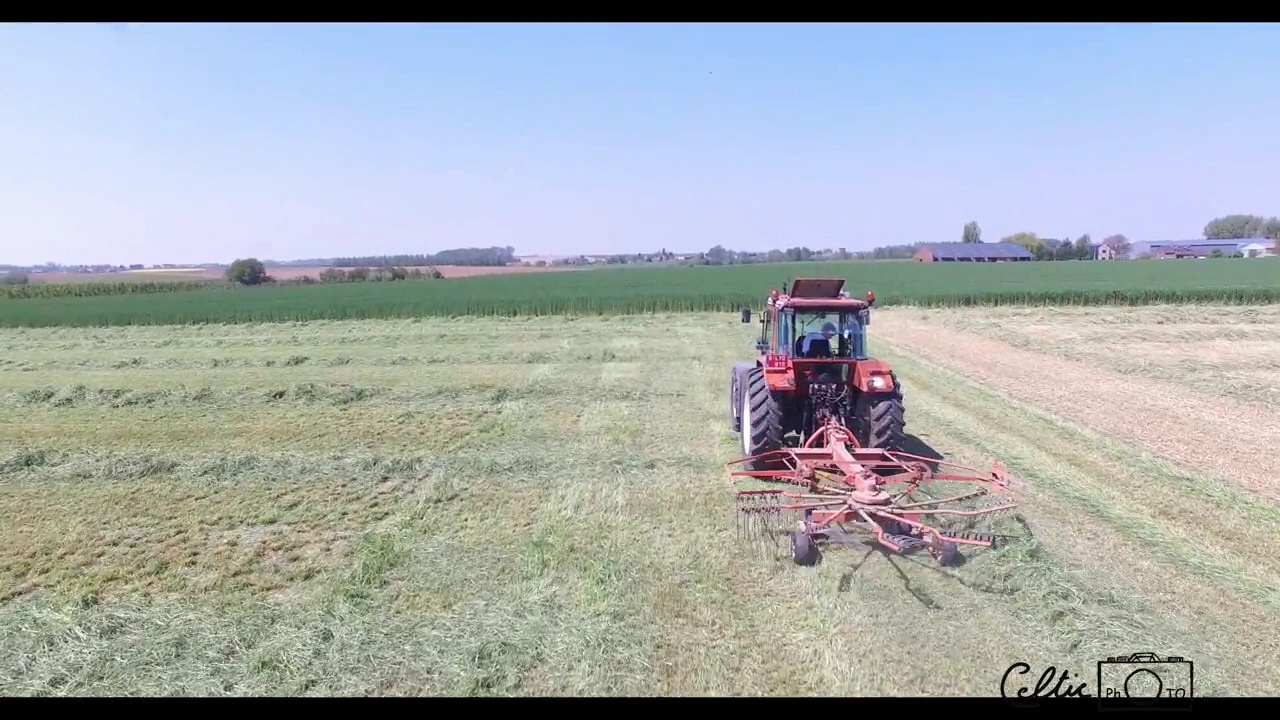traktor: (725, 289, 907, 464)
